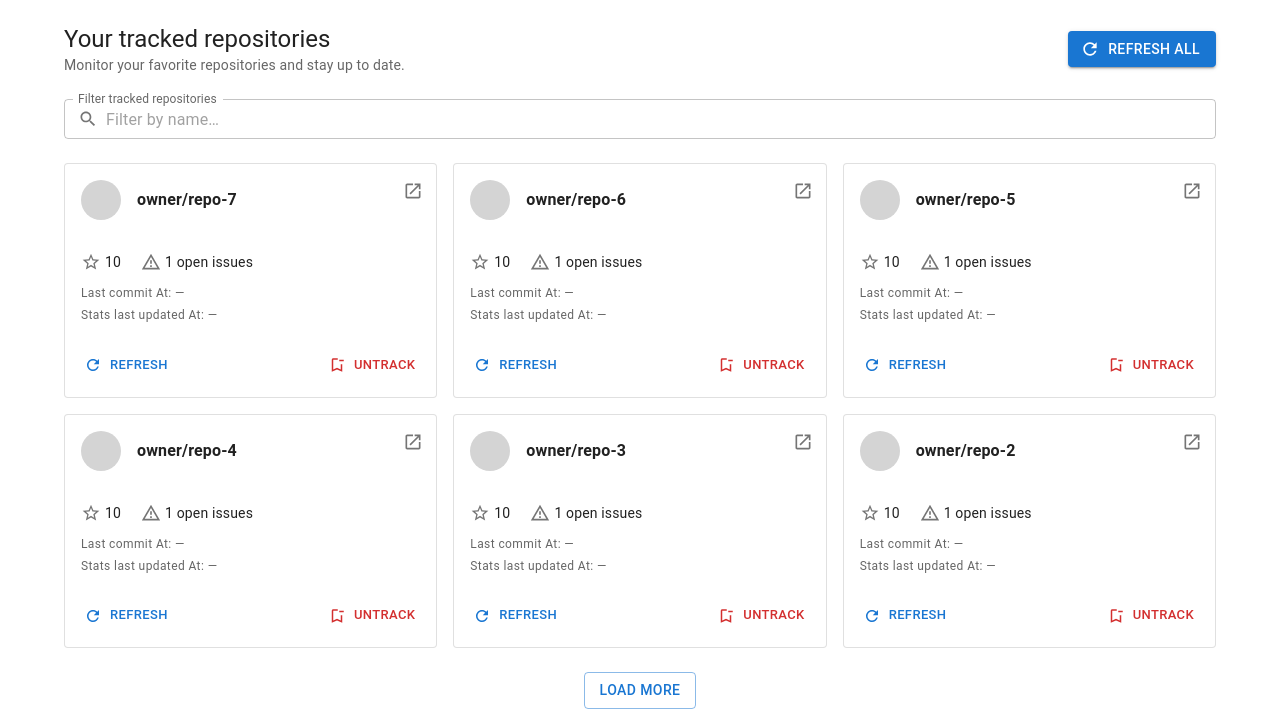
Test: TrackedTab › reveals more repositories with Load more, and hides the button once all are shown
Check: the text "owner/repo-2" is shown, box top-left (916, 441), bottom-right (1016, 460)
Check: the text "owner/repo-1" is not shown
What coordinates should you click on to do the following:
click the button "Load more"
I would click on:
 (640, 690)
Its box is top-left (584, 672), bottom-right (696, 709).
(page scrolled)
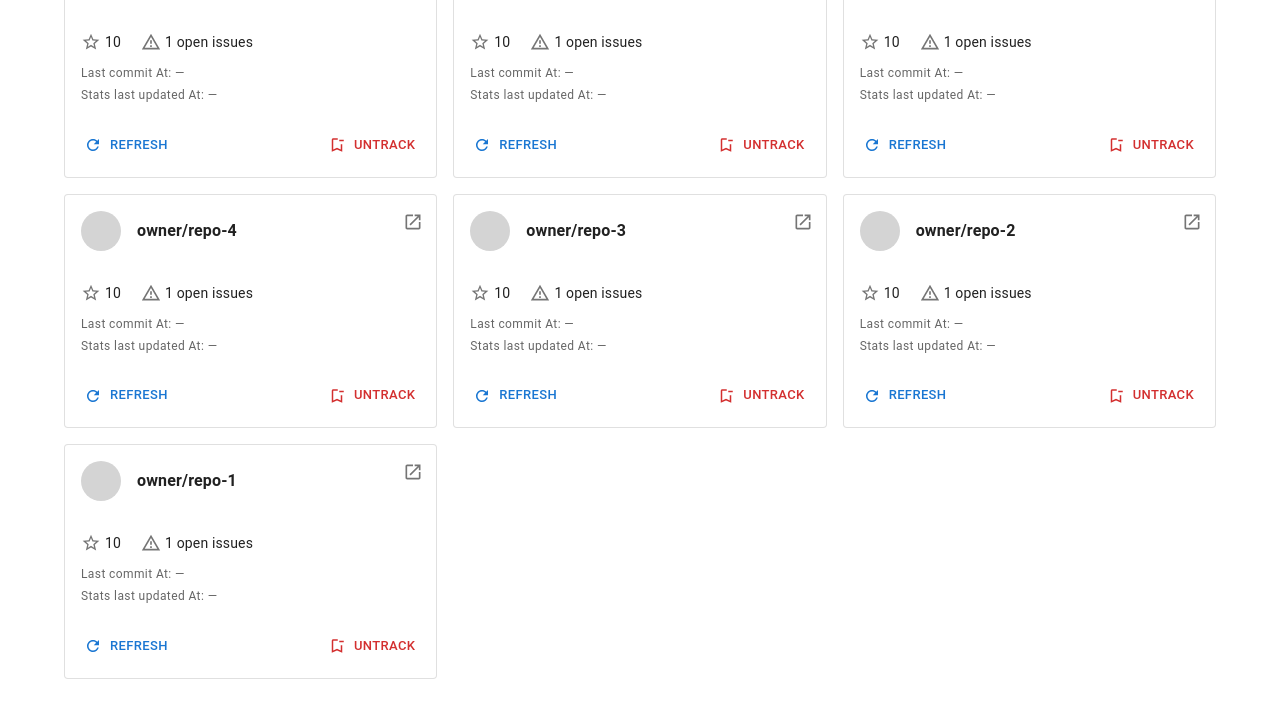
Check: the text "owner/repo-1" is shown, box top-left (137, 471), bottom-right (237, 490)
Check: the button "Load more" is gone
